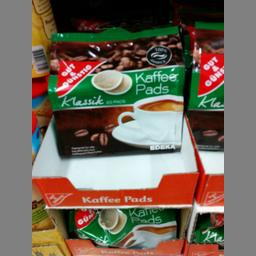coffee: (44, 25, 186, 159)
